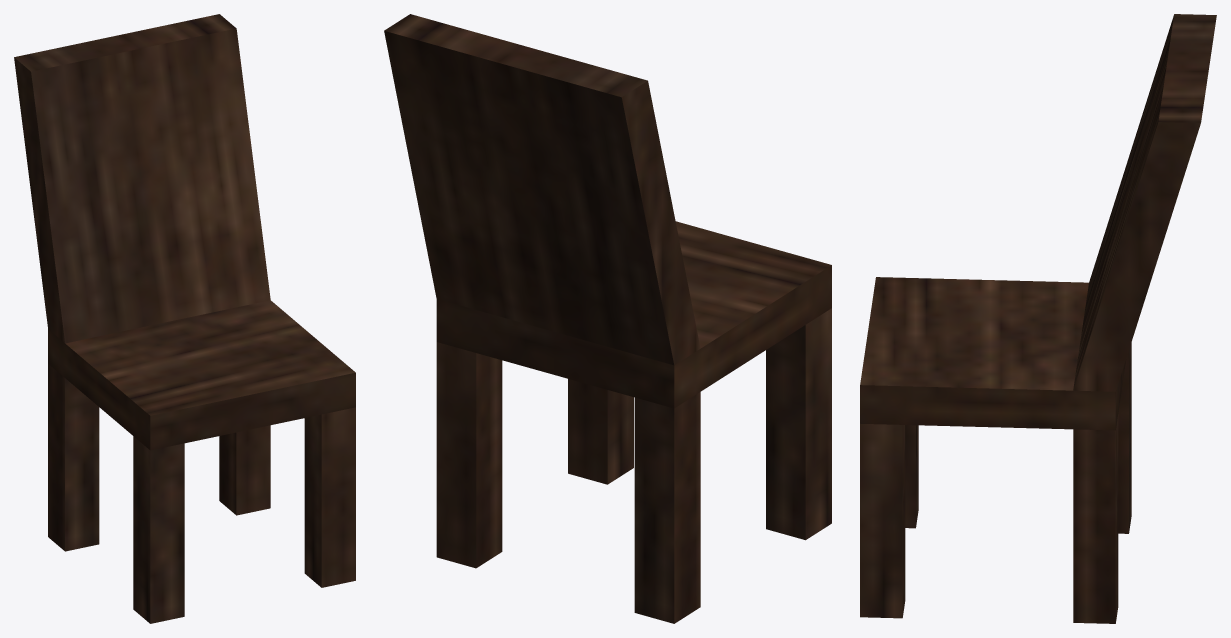
Rendered from chair1.obj.
3 renders of one model, left to right at view 1: azimuth 30°, elevation 25°; view 2: azimuth 150°, elevation 25°; view 3: azimuth 270°, elevation 25°, orthographic. The views are drawn at different scales.
Parts seen in each view (by area): view 1: Brush2, Brush3, Brush6, Brush1, Brush4, Brush5; view 2: Brush2, Brush3, Brush4, Brush5, Brush6, Brush1; view 3: Brush3, Brush2, Brush5, Brush1, Brush4, Brush6.
Part boxes in pixels (left/top/right/bottom): Brush2: left=14, top=14, right=270, bottom=343; Brush3: left=48, top=300, right=355, bottom=450; Brush6: left=133, top=436, right=184, bottom=623; Brush1: left=304, top=407, right=355, bottom=587; Brush4: left=48, top=364, right=99, bottom=551; Brush5: left=219, top=425, right=270, bottom=515; Brush2: left=384, top=14, right=700, bottom=365; Brush3: left=436, top=221, right=831, bottom=408; Brush4: left=634, top=392, right=700, bottom=623; Brush5: left=436, top=342, right=502, bottom=568; Brush6: left=766, top=308, right=831, bottom=540; Brush1: left=568, top=379, right=633, bottom=484; Brush3: left=860, top=277, right=1126, bottom=430; Brush2: left=1073, top=14, right=1216, bottom=391; Brush5: left=1073, top=414, right=1118, bottom=623; Brush1: left=860, top=423, right=905, bottom=618; Brush4: left=1118, top=342, right=1131, bottom=533; Brush6: left=905, top=425, right=918, bottom=528.
Size of the model in its own units: 25.94 by 52 by 33.43.
